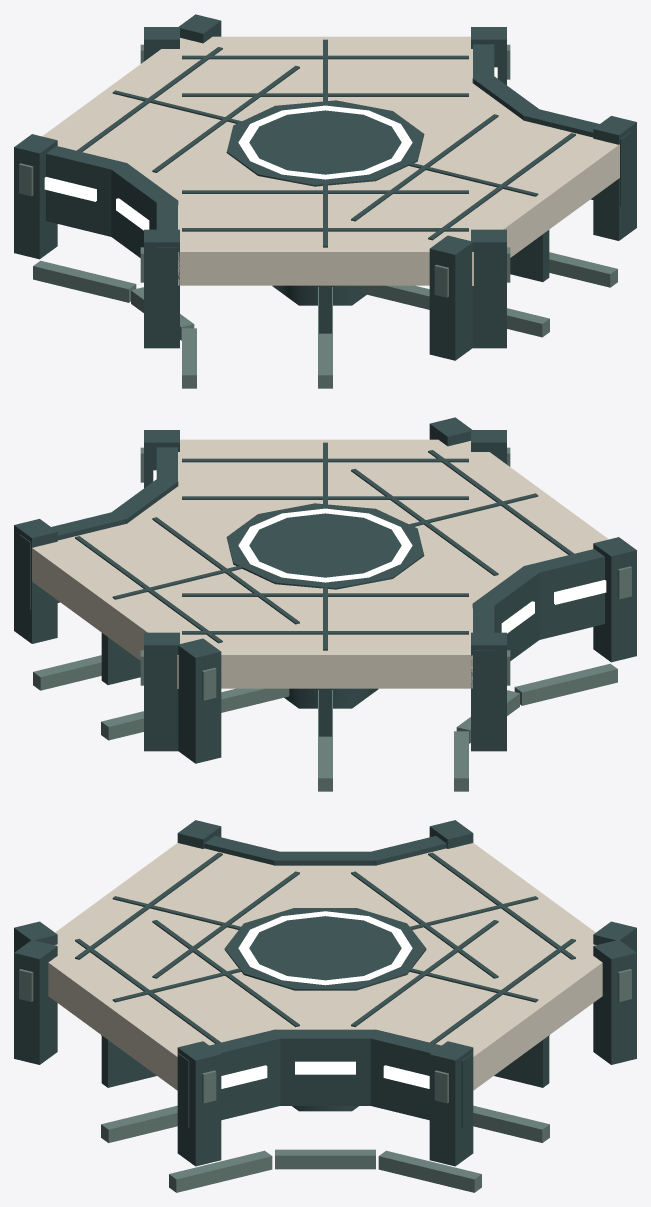
File: Junction_K_lab.glb
3 views of the same model, one above another, from view 1: azimuth 30°, elevation 25°; view 2: azimuth 150°, elevation 25°; view 3: azimuth 270°, elevation 25° (orthographic).
Parts seen in each view (by area): view 1: Junction_K; view 2: Junction_K; view 3: Junction_K.
Part boxes in pixels (<box>): Junction_K: <box>14,14,636,388</box>; Junction_K: <box>14,417,636,791</box>; Junction_K: <box>14,820,636,1192</box>.
Bounding box in the file's own units: 5.36 × 1.58 × 5.87.
